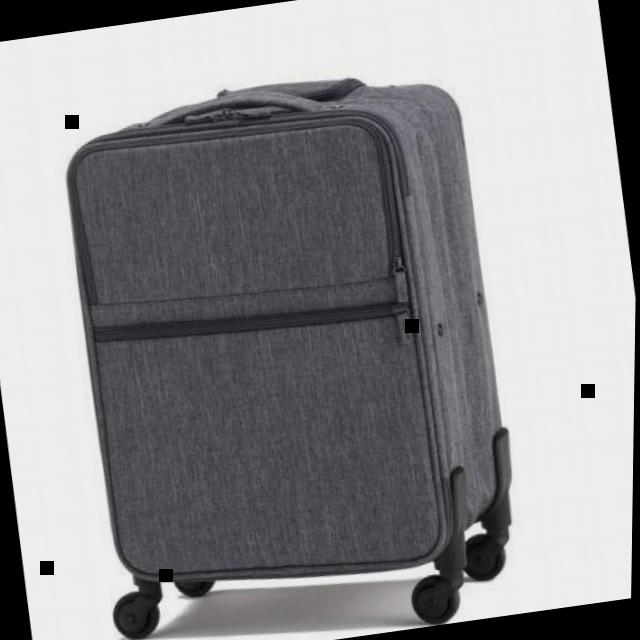luggage: (43, 50, 532, 610)
